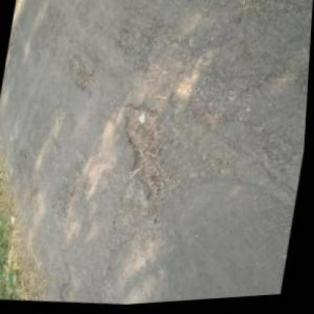Hueco: (108, 100, 181, 212), (66, 56, 97, 95)
